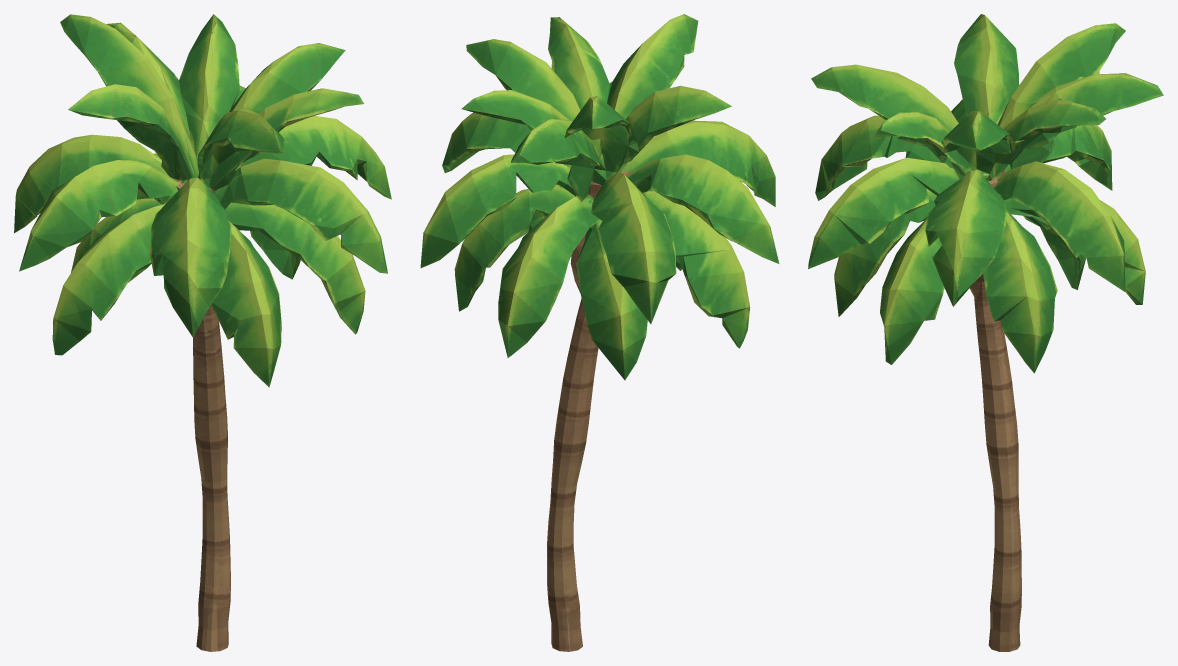
Rendered from palm_a.glb.
The picture shows the model from 3 angles, left to right: view 1: azimuth 30°, elevation 25°; view 2: azimuth 150°, elevation 25°; view 3: azimuth 270°, elevation 25°; orthographic projection. The views are drawn at different scales.
Visible parts, largest first — view 1: body; view 2: body; view 3: body.
Boxes of the visible parts, x1,y1,x2,y2 form: body: [14, 14, 391, 651]; body: [420, 14, 779, 651]; body: [808, 14, 1163, 651].
Bounding box in the file's own units: 5.24 × 8.54 × 4.71.
Materials: 2 (2 with a texture image).
